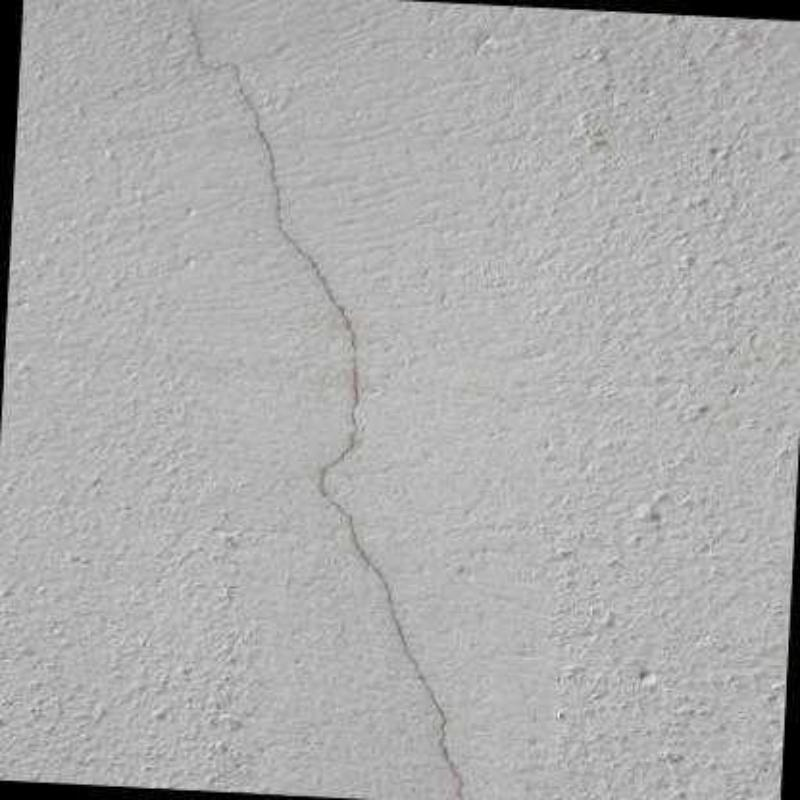crack: (184, 6, 467, 800)
